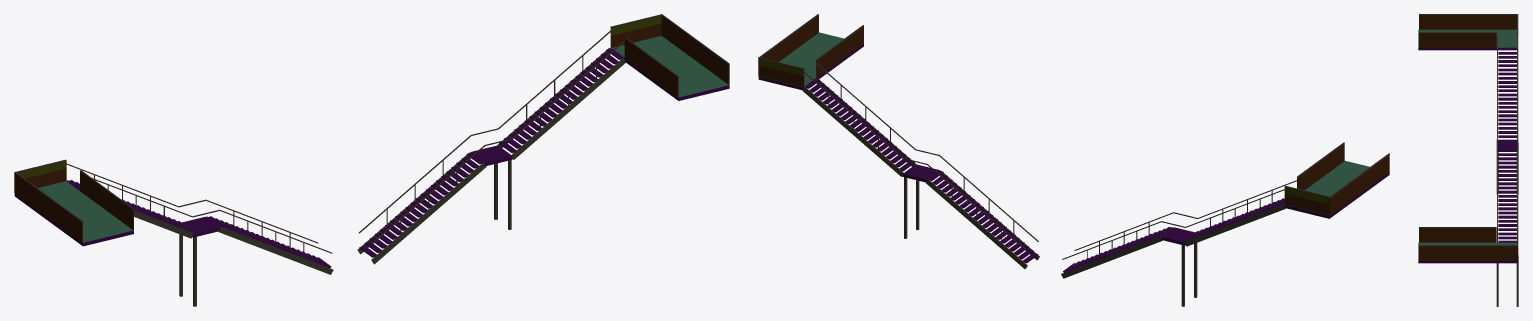
File: monorail_access_s.glb
The picture shows the model from 3 angles, left to right: view 1: azimuth 30°, elevation 25°; view 2: azimuth 150°, elevation 25°; view 3: azimuth 270°, elevation 25°; orthographic projection. The views are drawn at different scales.
Visible parts, largest first — view 1: monorail_access_s; view 2: monorail_access_s; view 3: monorail_access_s.
Part boxes in pixels (<box>): monorail_access_s: <box>14,14,729,306</box>; monorail_access_s: <box>758,14,1389,306</box>; monorail_access_s: <box>1418,14,1518,306</box>.
Bounding box in the file's own units: 38.07 × 9.33 × 6.97.
